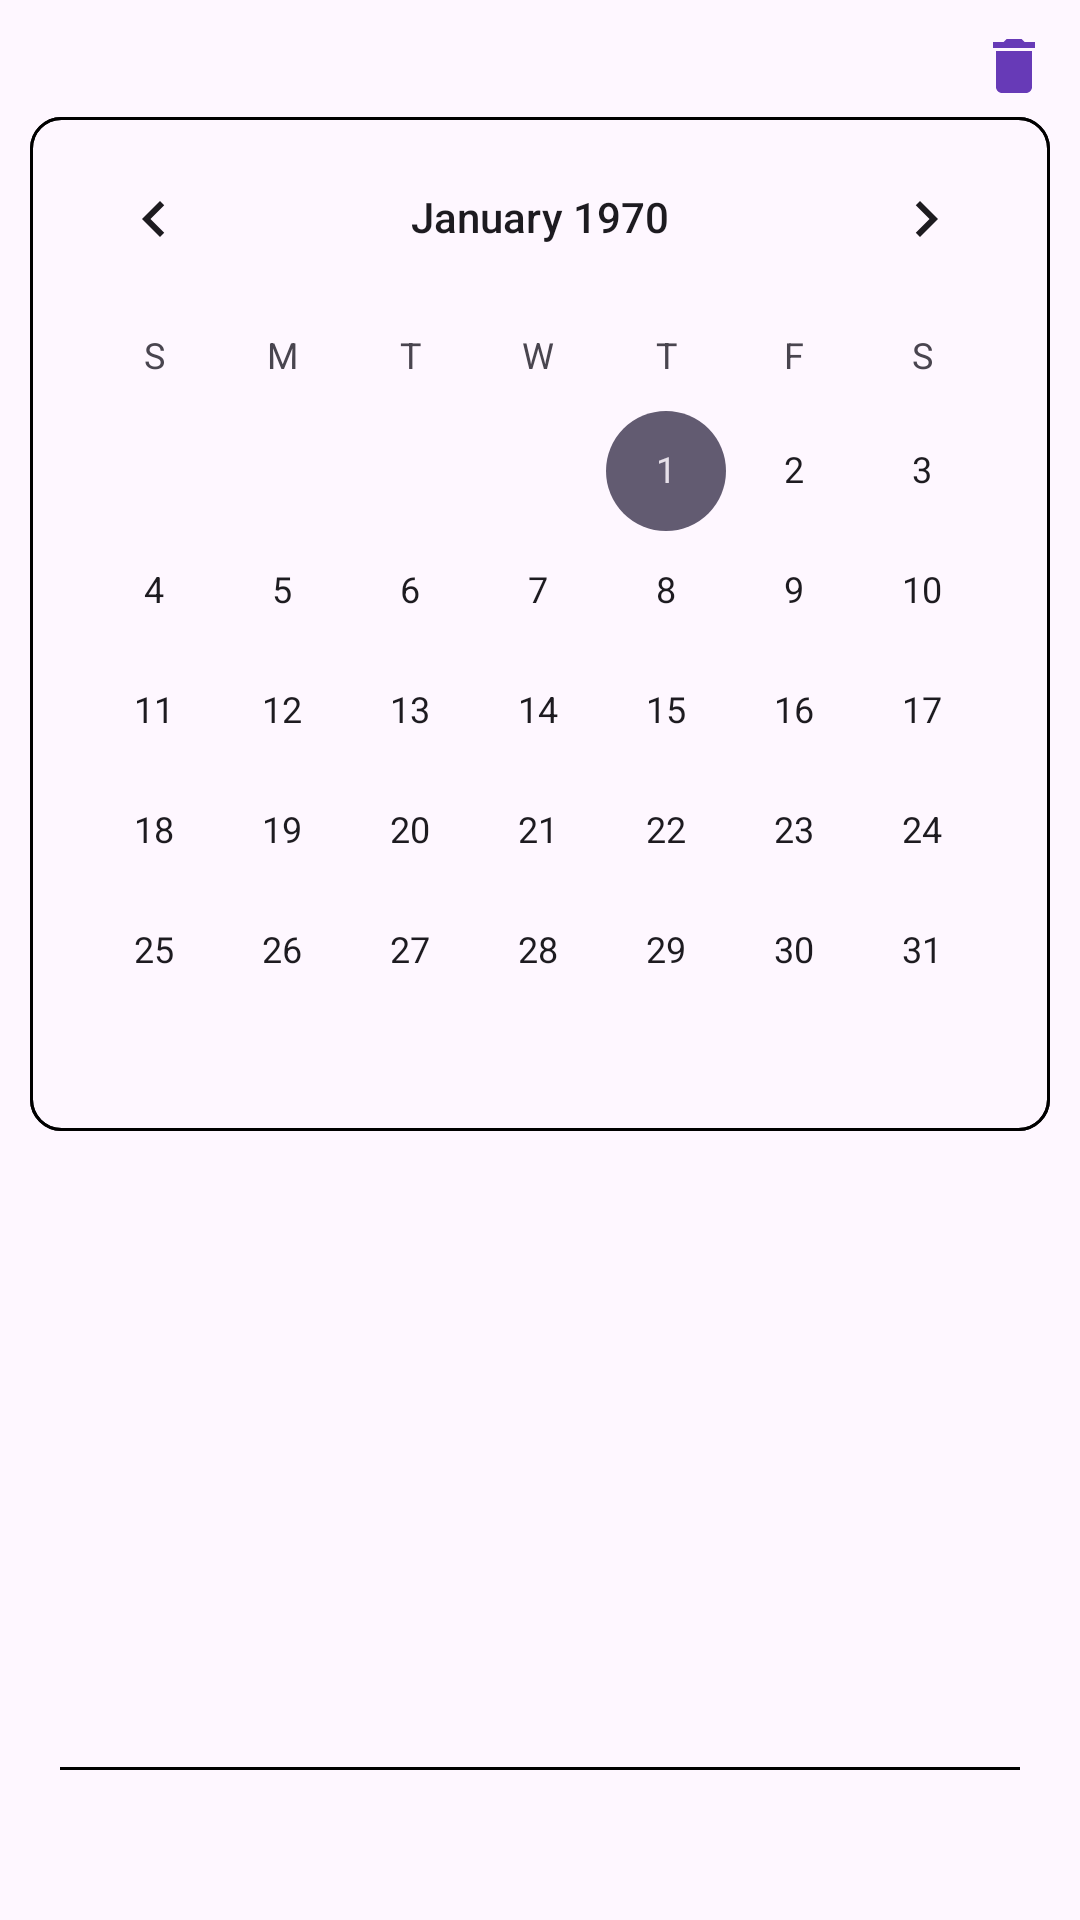

Where to tap for icons on this 1080w x 1920h app screen, as [x,y]:
delete: [1014,66]
